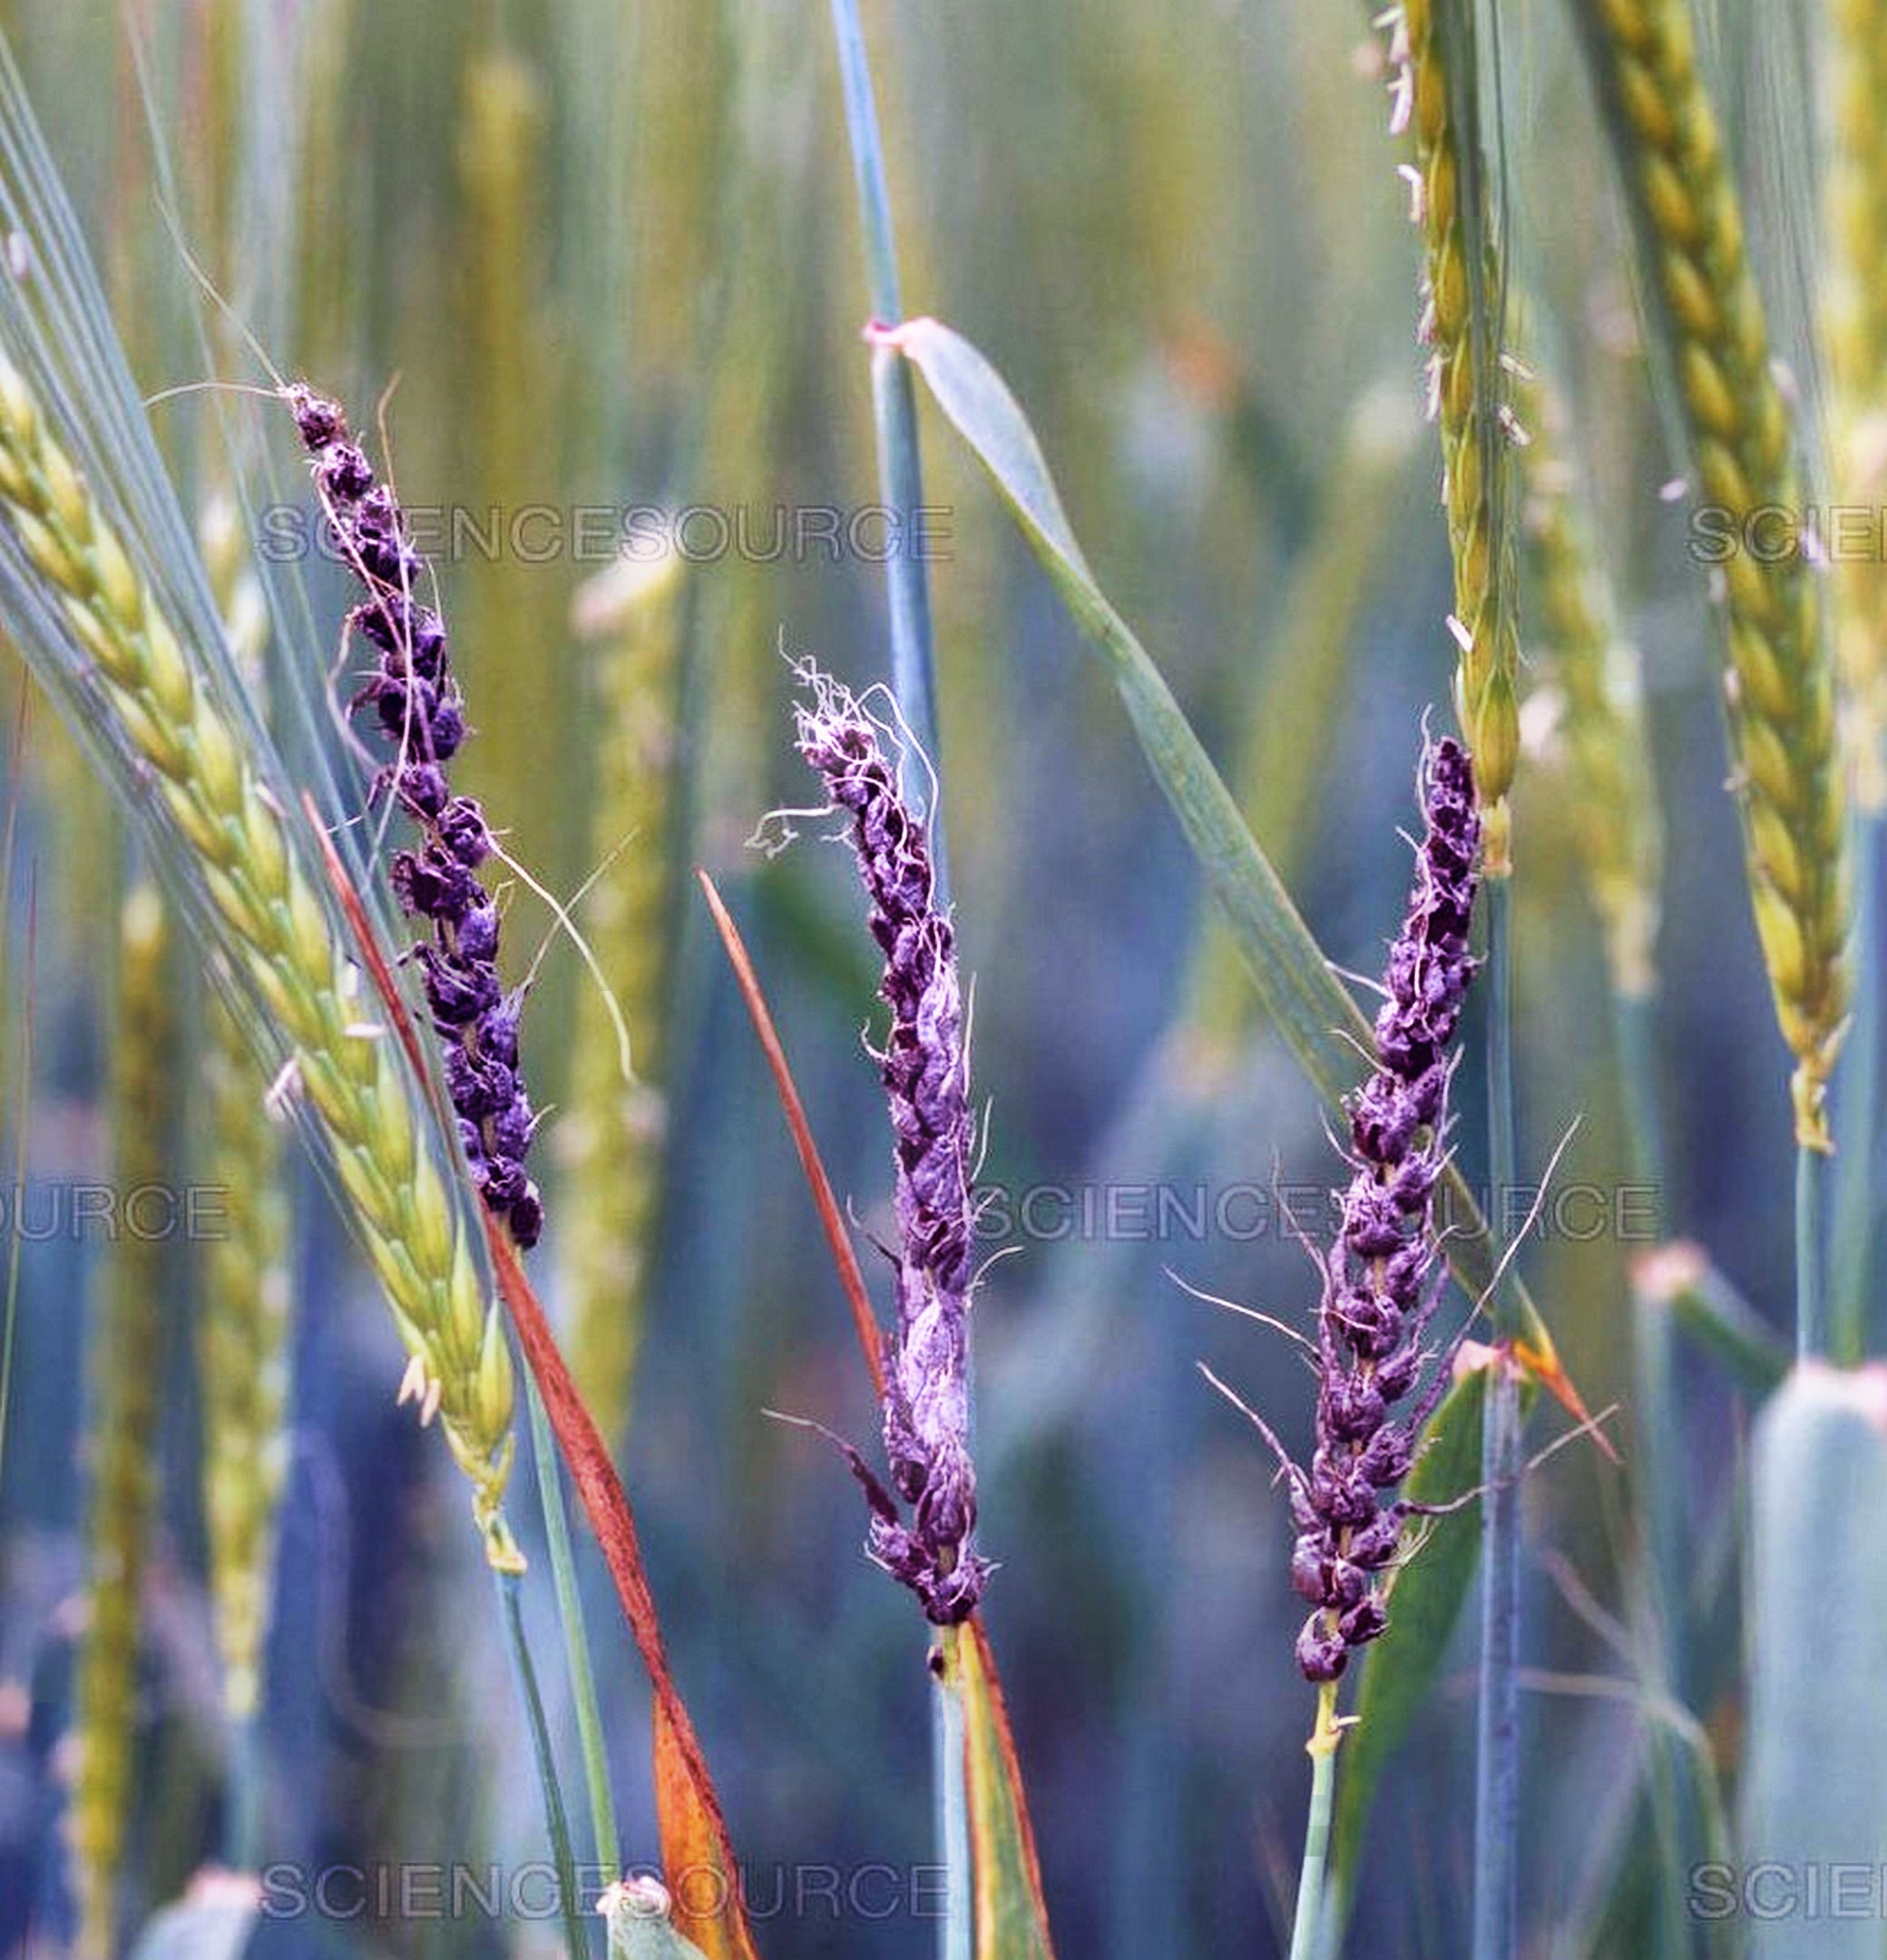Wheat Loose Smut: (262, 390, 614, 1230), (764, 684, 1067, 1622), (1256, 744, 1516, 1662)
